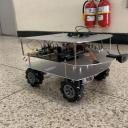cart: (20, 33, 118, 103)
